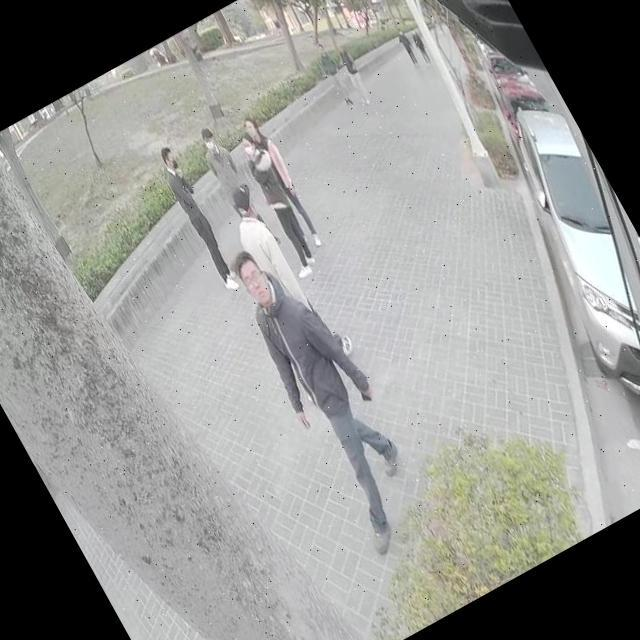person: (206, 225, 446, 561), (210, 170, 360, 382), (224, 124, 330, 282), (232, 101, 332, 252), (151, 144, 245, 288), (190, 121, 247, 196), (328, 34, 380, 108), (308, 38, 359, 112), (393, 26, 421, 65), (406, 26, 433, 64)
